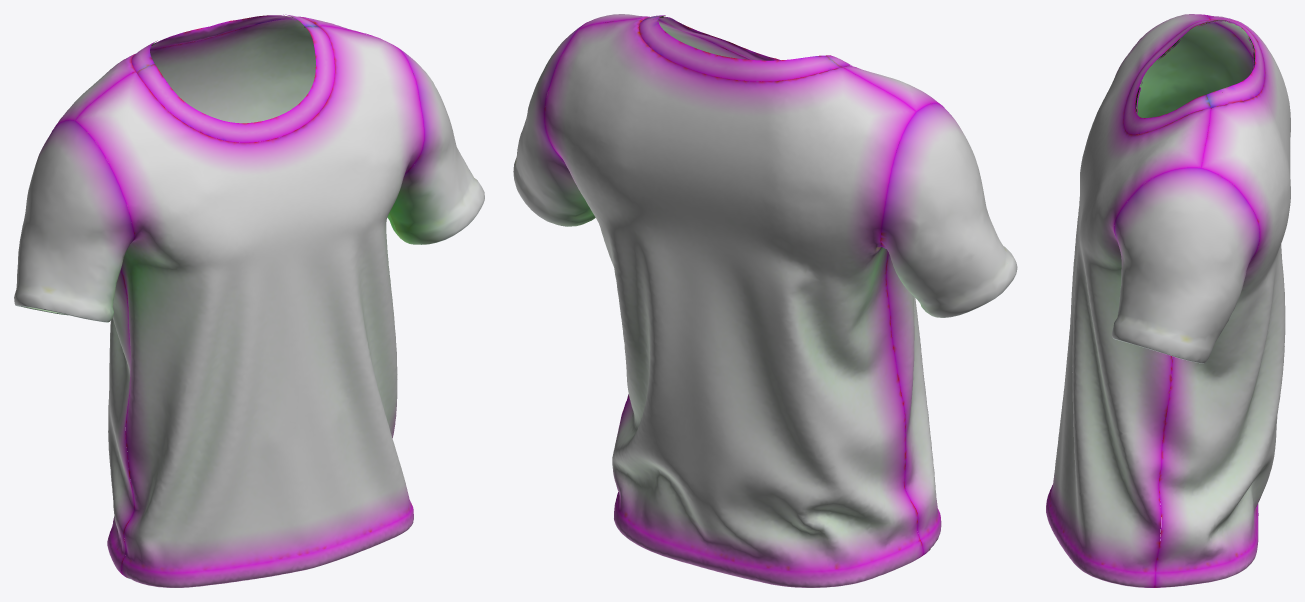
Rendered from tee.glb.
3 views of the same model, side by side, from view 1: azimuth 30°, elevation 25°; view 2: azimuth 150°, elevation 25°; view 3: azimuth 270°, elevation 25° (orthographic). The views are drawn at different scales.
Visible parts, largest first — view 1: front, back, sleeve_r, sleeve_l, collar; view 2: back, sleeve_r, front, sleeve_l, collar; view 3: front, back, sleeve_l, sleeve_r, collar.
Boxes of the visible parts, box(x1,y1,x2,y2) form: front: box(75, 25, 424, 587); back: box(54, 16, 370, 574); sleeve_r: box(14, 120, 134, 322); sleeve_l: box(387, 48, 484, 244); collar: box(131, 14, 334, 142); back: box(544, 18, 923, 587); sleeve_r: box(881, 103, 1017, 317); front: box(579, 14, 941, 555); sleeve_l: box(513, 24, 595, 226); collar: box(638, 15, 851, 81); front: box(1046, 14, 1211, 587); back: box(1154, 15, 1290, 587); sleeve_l: box(1111, 167, 1259, 363); sleeve_r: box(1136, 22, 1254, 132); collar: box(1123, 19, 1264, 134).
Size of the model in its own units: 0.6372 by 0.6474 by 0.3001.
